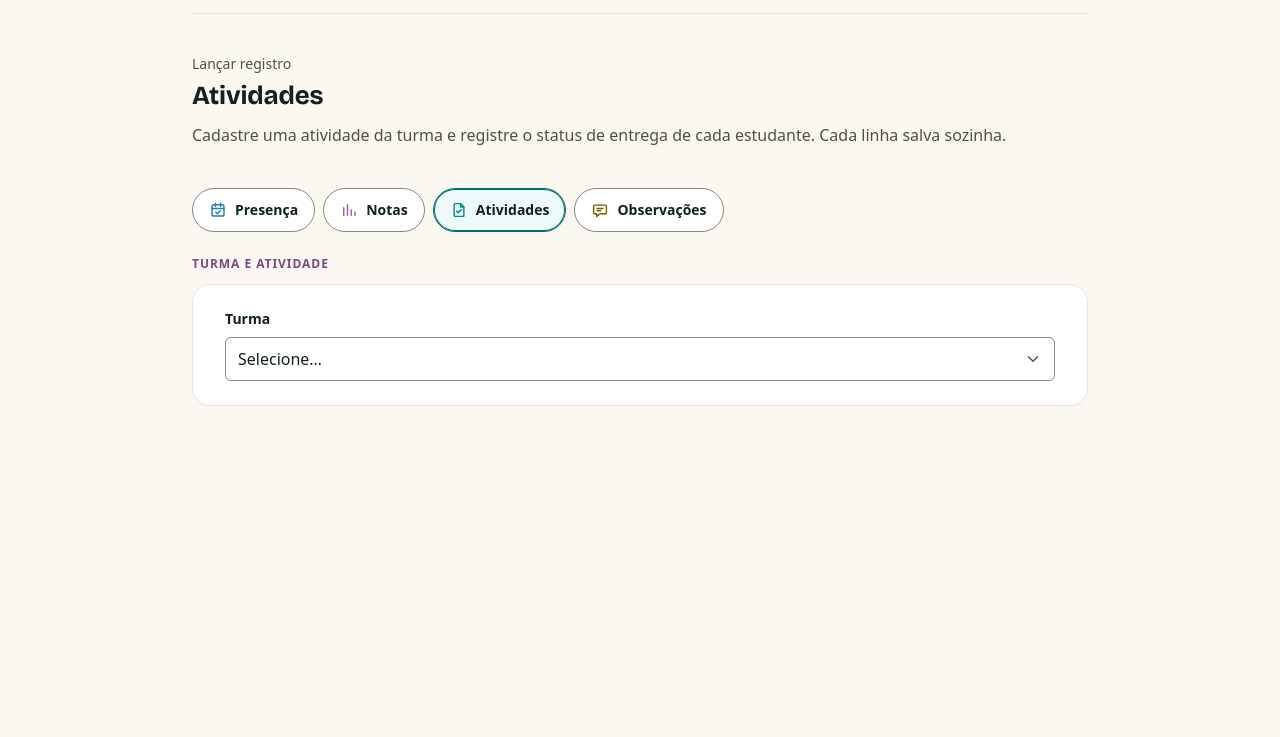
Test: Atividades — cadastro de atividade e registro de status de entrega (Story 1.4) › registra o status de entrega de um estudante: POSTs /assignment-submissions and shows "Registro salvo." on that row
Select "Turma Teste" in the dropdown labelled "Turma". click: [640, 359]
box: [238,339,1042,379]
(page scrolled)
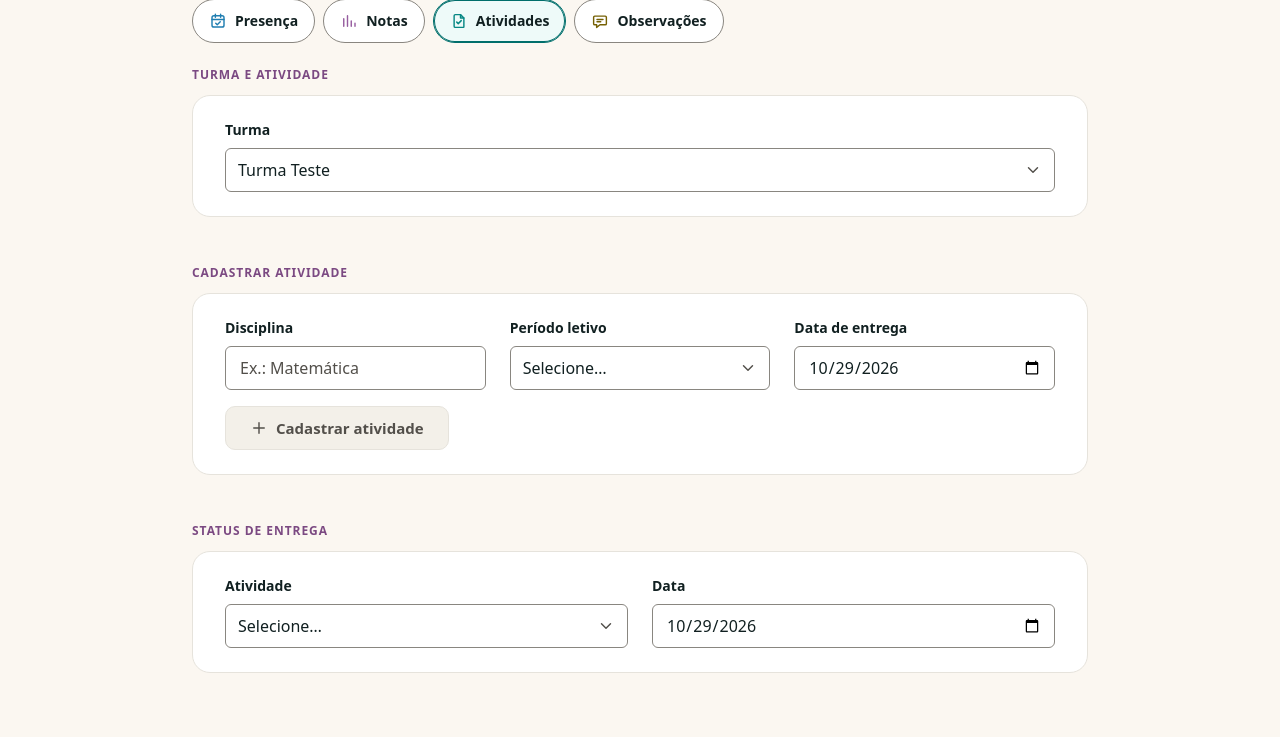
Select "Matemática · prazo 30/09/2026" in the dropdown labelled "Atividade". click: [426, 626]
box: [238,606,615,646]
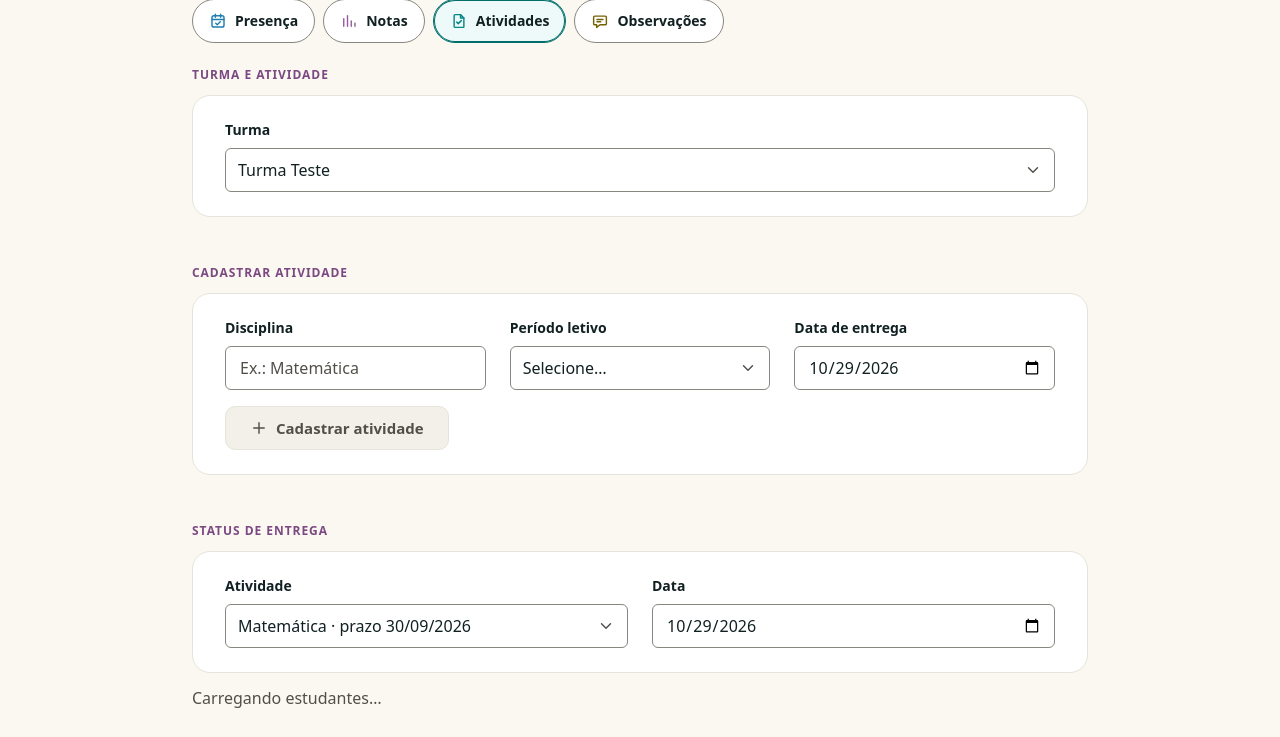
Type "2026-09-30" into the date field labelled "Data". click: [854, 626]
box: [665,606,1042,646]
(page scrolled)
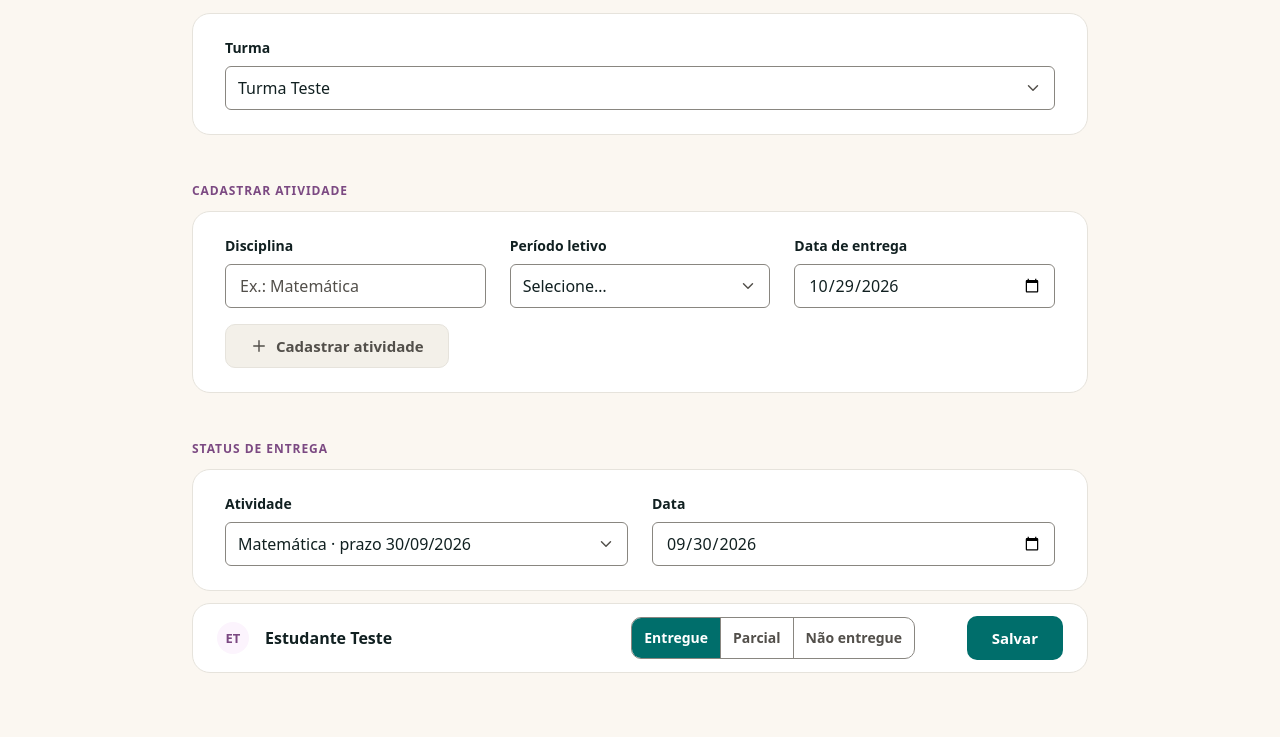
Result: the text "Estudante Teste" is shown at [265,627,392,649]
Click the radio button labelled "Parcial". click: [756, 638]
box: [720,618,793,658]
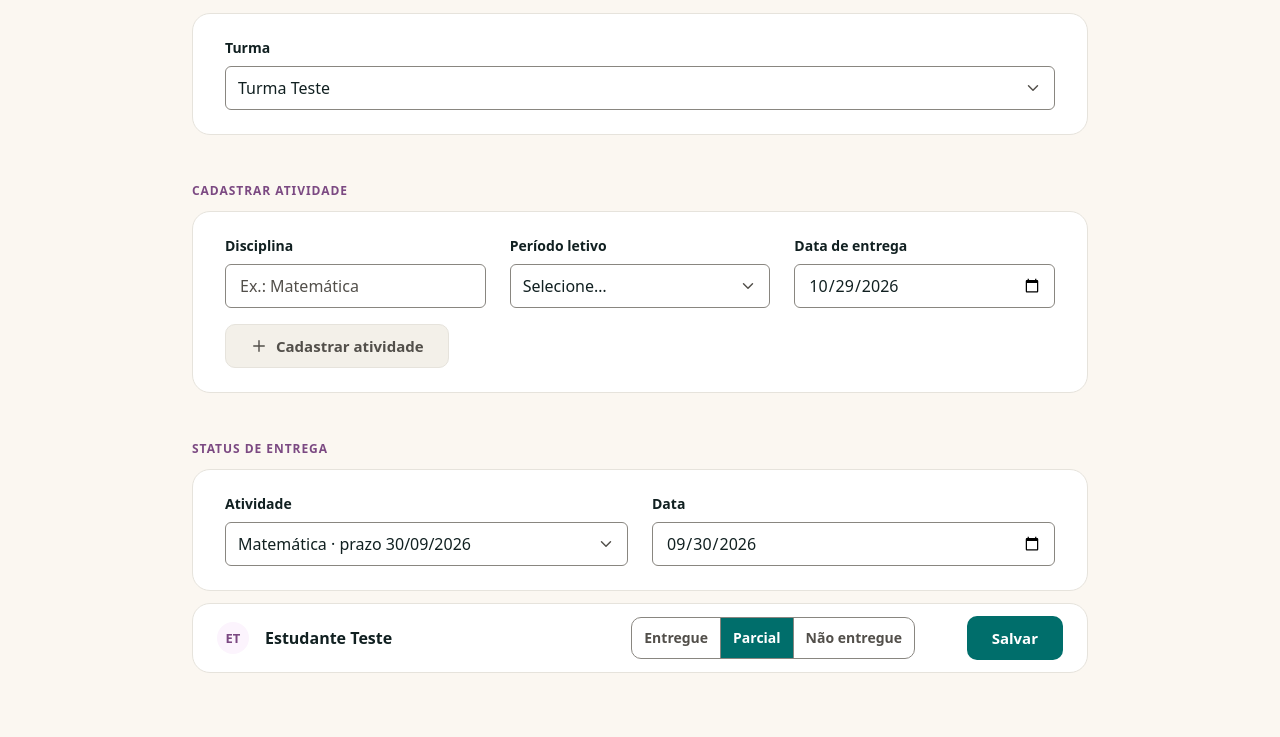
Result: the button "Salvar" is enabled
Click the button "Salvar". click: [1015, 638]
box: [967,616,1063,660]
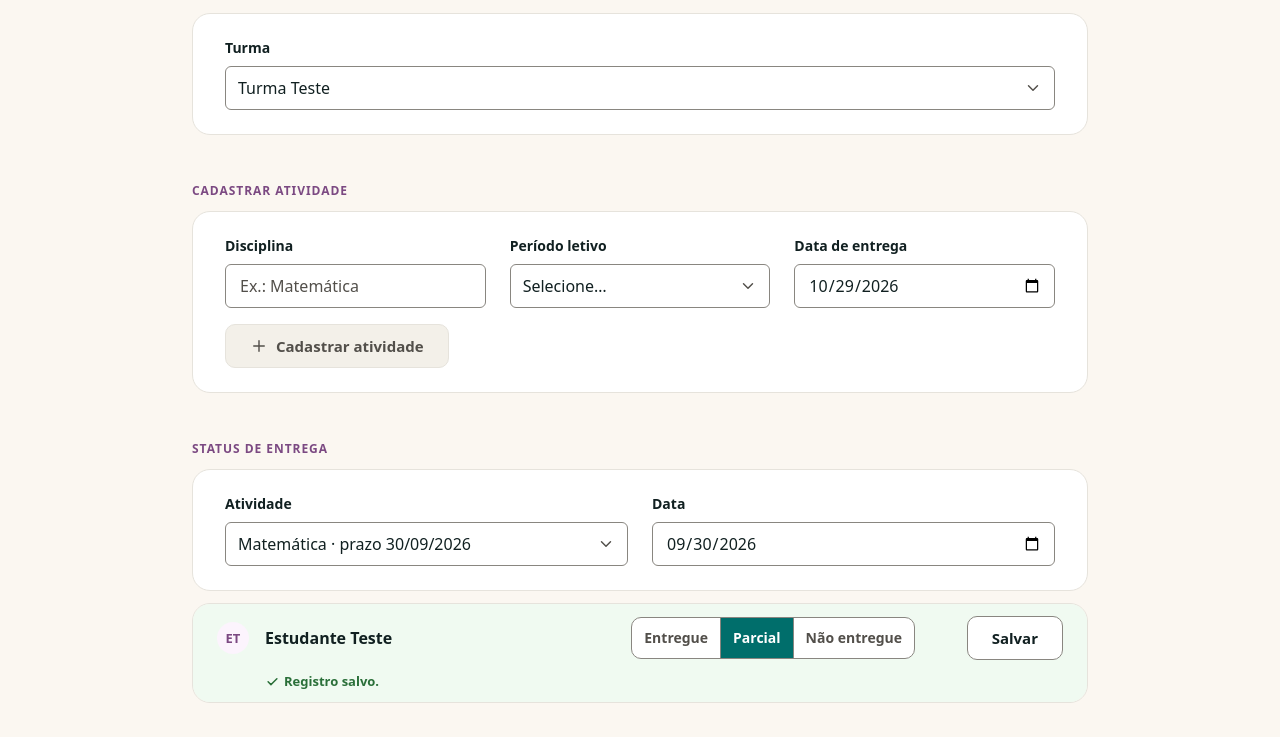
Result: the text "Registro salvo." is shown at [265,672,379,690]
